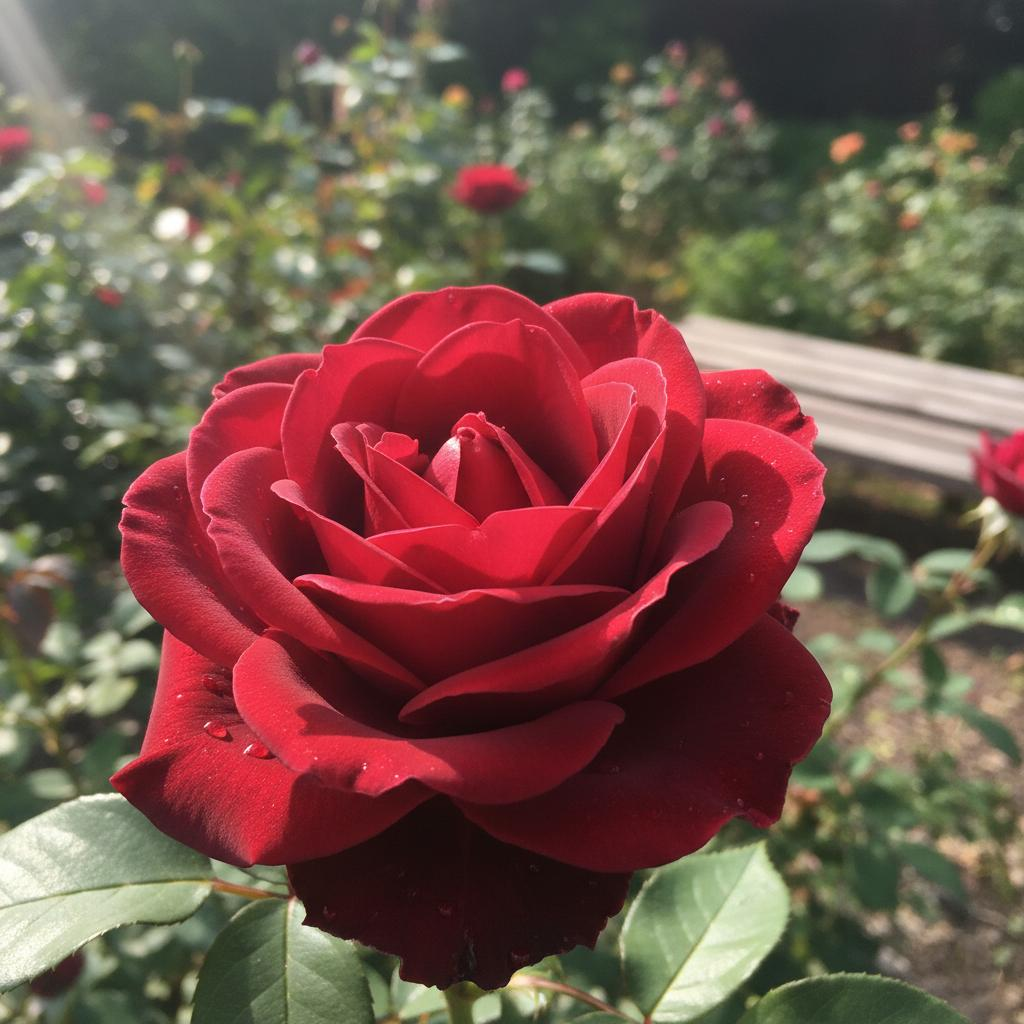rose: (108, 280, 834, 991)
